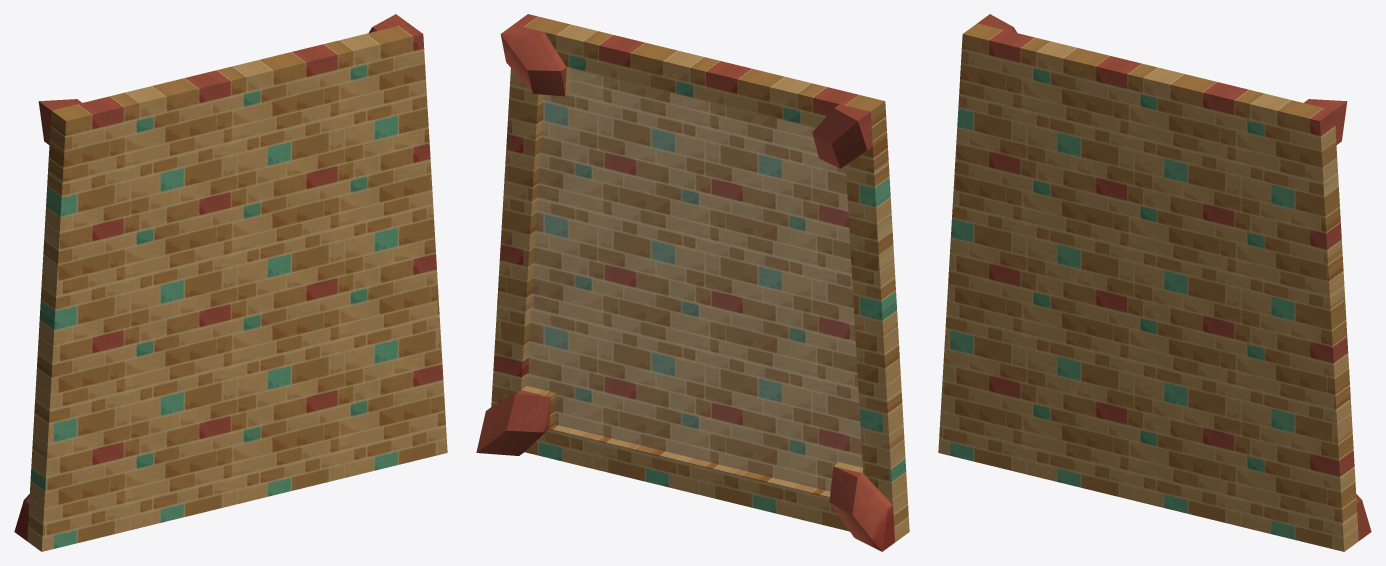
File: AztecCover.fbx
3 views of the same model, side by side, from view 1: azimuth 30°, elevation 25°; view 2: azimuth 150°, elevation 25°; view 3: azimuth 330°, elevation 25° (orthographic).
Visible parts, largest first — view 1: Cube.049; view 2: Cube.049; view 3: Cube.049.
Boxes of the visible parts, x1=… form: Cube.049: x1=14, y1=14, x2=447, y2=551; Cube.049: x1=476, y1=14, x2=909, y2=551; Cube.049: x1=938, y1=14, x2=1371, y2=551.
Size of the model in its own units: 5263 by 5263 by 614.
Materials: 2 (2 with a texture image).
